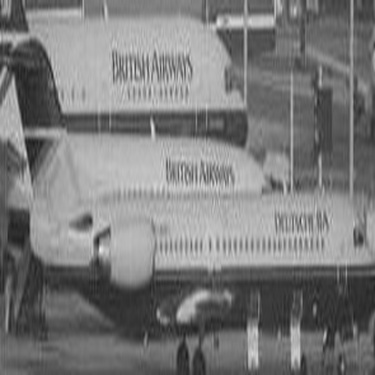airplane: (2, 6, 366, 367), (1, 60, 274, 241), (4, 6, 253, 153)
